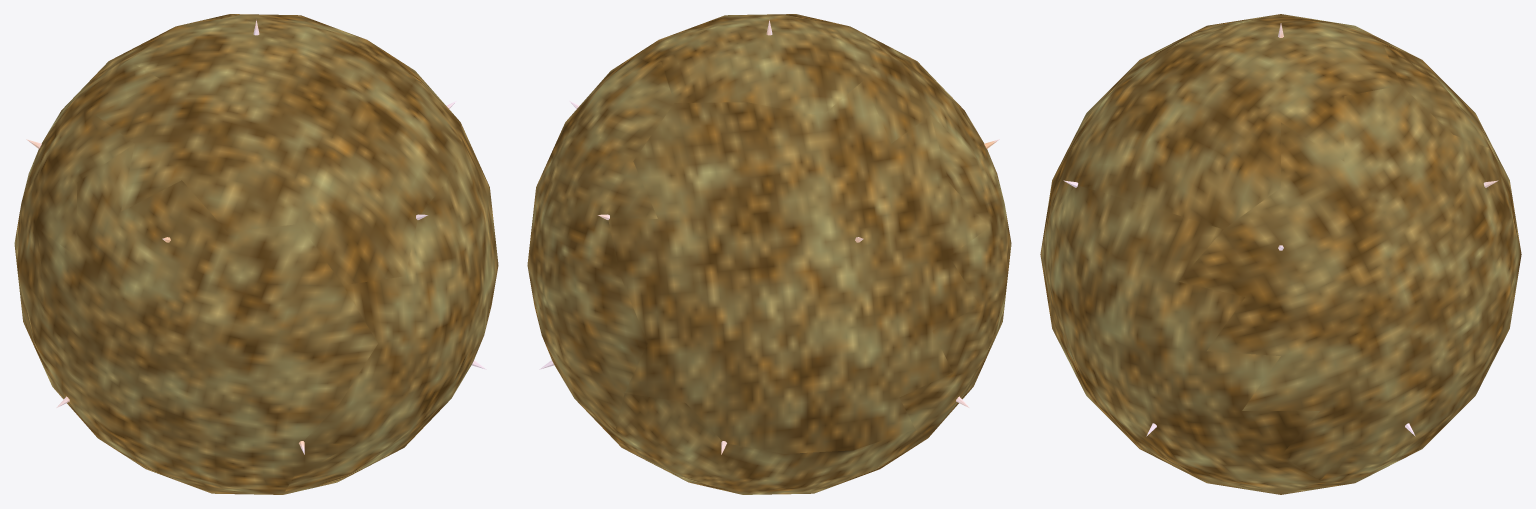
File: explosion_flash.glb
The picture shows the model from 3 angles, left to right: view 1: azimuth 30°, elevation 25°; view 2: azimuth 150°, elevation 25°; view 3: azimuth 270°, elevation 25°; orthographic projection.
Visible parts, largest first — view 1: flash_shell; view 2: flash_shell; view 3: flash_shell.
Boxes of the visible parts, x1,y1,x2,y2 form: flash_shell: (14,14,498,494); flash_shell: (527,14,1011,494); flash_shell: (1040,14,1521,494).
Size of the model in its own units: 4.6 by 4.9 by 4.6.
2 materials, 2 textured.
